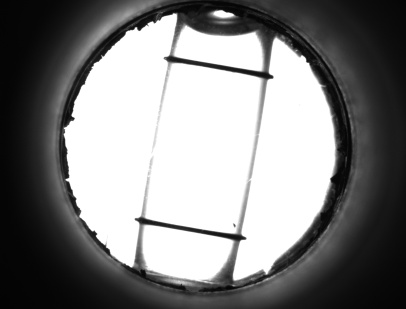line: (179, 54, 253, 80), (151, 216, 224, 242)
